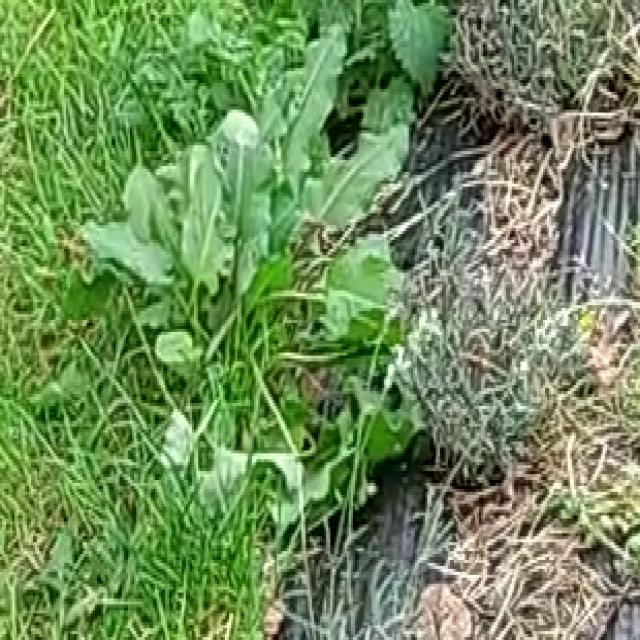organic waste: (66, 30, 436, 530)
